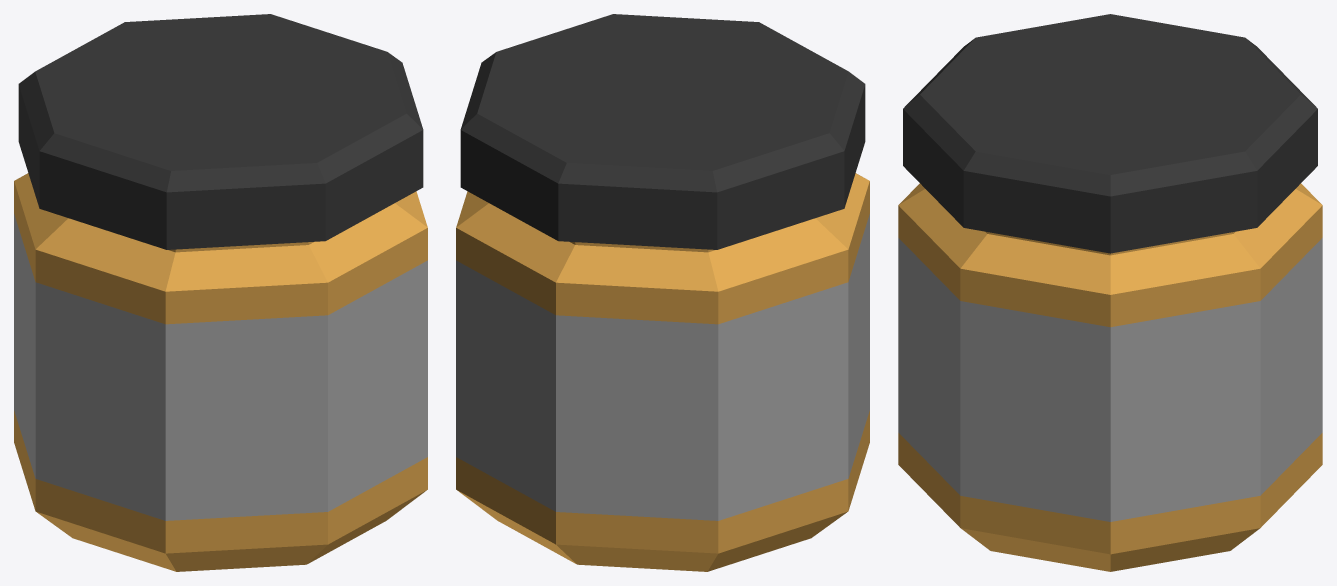
Rendered from SpiceJar1.fbx.
The picture shows the model from 3 angles, left to right: view 1: azimuth 30°, elevation 25°; view 2: azimuth 150°, elevation 25°; view 3: azimuth 270°, elevation 25°; orthographic projection.
Parts seen in each view (by area): view 1: SpiceJar1; view 2: SpiceJar1; view 3: SpiceJar1.
Boxes of the visible parts, bbox=[...] form: SpiceJar1: bbox=[14, 14, 427, 571]; SpiceJar1: bbox=[456, 14, 869, 571]; SpiceJar1: bbox=[898, 14, 1322, 571].
Size of the model in its own units: 12.61 by 13.3 by 12.61.
